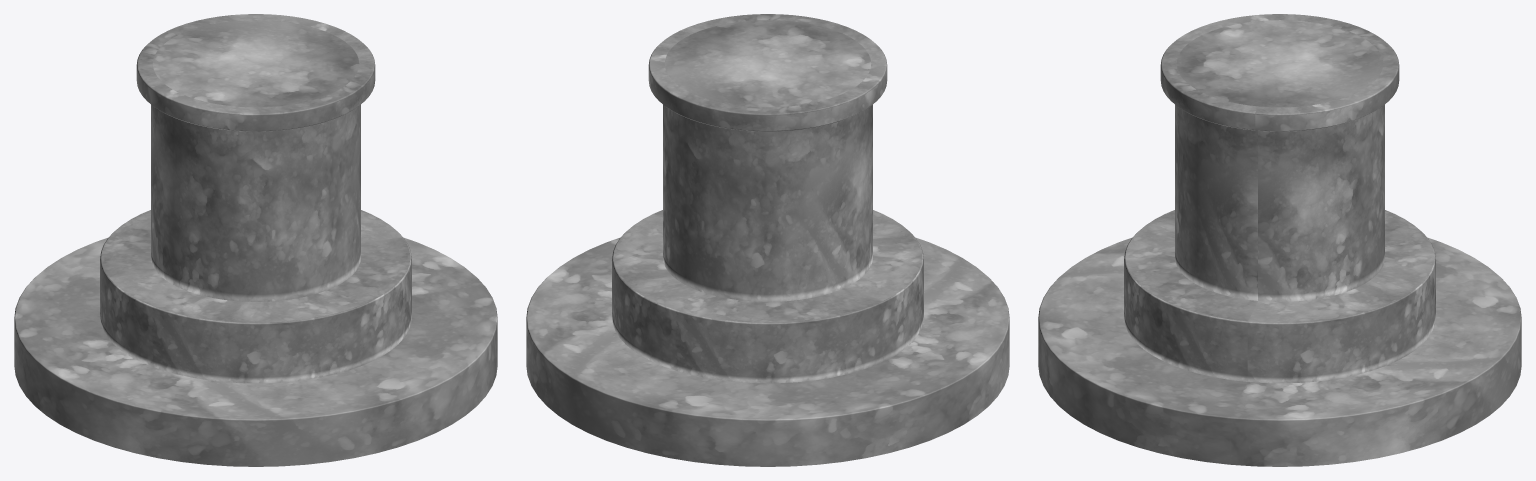
The model's file is SM_Piedestal_01a.fbx.
3 renders of one model, left to right at view 1: azimuth 30°, elevation 25°; view 2: azimuth 150°, elevation 25°; view 3: azimuth 270°, elevation 25°, orthographic.
Visible parts, largest first — view 1: SM_Piedestal_01a_LOD0; view 2: SM_Piedestal_01a_LOD0; view 3: SM_Piedestal_01a_LOD0.
Part boxes in pixels (x1,y1,x2,y2): SM_Piedestal_01a_LOD0: (14, 14, 497, 466); SM_Piedestal_01a_LOD0: (526, 14, 1009, 466); SM_Piedestal_01a_LOD0: (1038, 14, 1521, 466).
Size of the model in its own units: 632 by 632 by 434.
